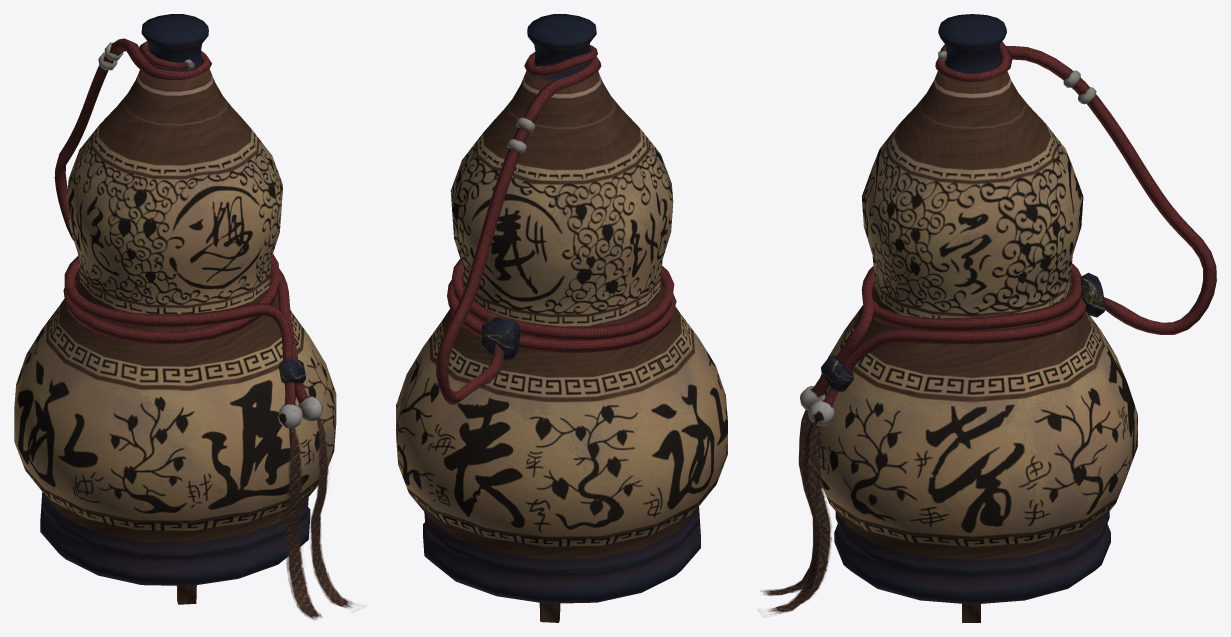
The model's file is chinese_wine_gourd.glb.
The picture shows the model from 3 angles, left to right: view 1: azimuth 30°, elevation 25°; view 2: azimuth 150°, elevation 25°; view 3: azimuth 270°, elevation 25°; orthographic projection. The views are drawn at different scales.
Parts seen in each view (by area): view 1: gourd_low.001_Chinese_Wine_Gourd_4K_0_4; view 2: gourd_low.001_Chinese_Wine_Gourd_4K_0_4; view 3: gourd_low.001_Chinese_Wine_Gourd_4K_0_4.
Boxes of the visible parts, bbox=[...] form: gourd_low.001_Chinese_Wine_Gourd_4K_0_4: bbox=[14, 14, 358, 619]; gourd_low.001_Chinese_Wine_Gourd_4K_0_4: bbox=[396, 14, 727, 622]; gourd_low.001_Chinese_Wine_Gourd_4K_0_4: bbox=[758, 14, 1216, 622].
Bounding box in the file's own units: 0.1475 × 0.2702 × 0.2056.
1 material, 1 textured.
